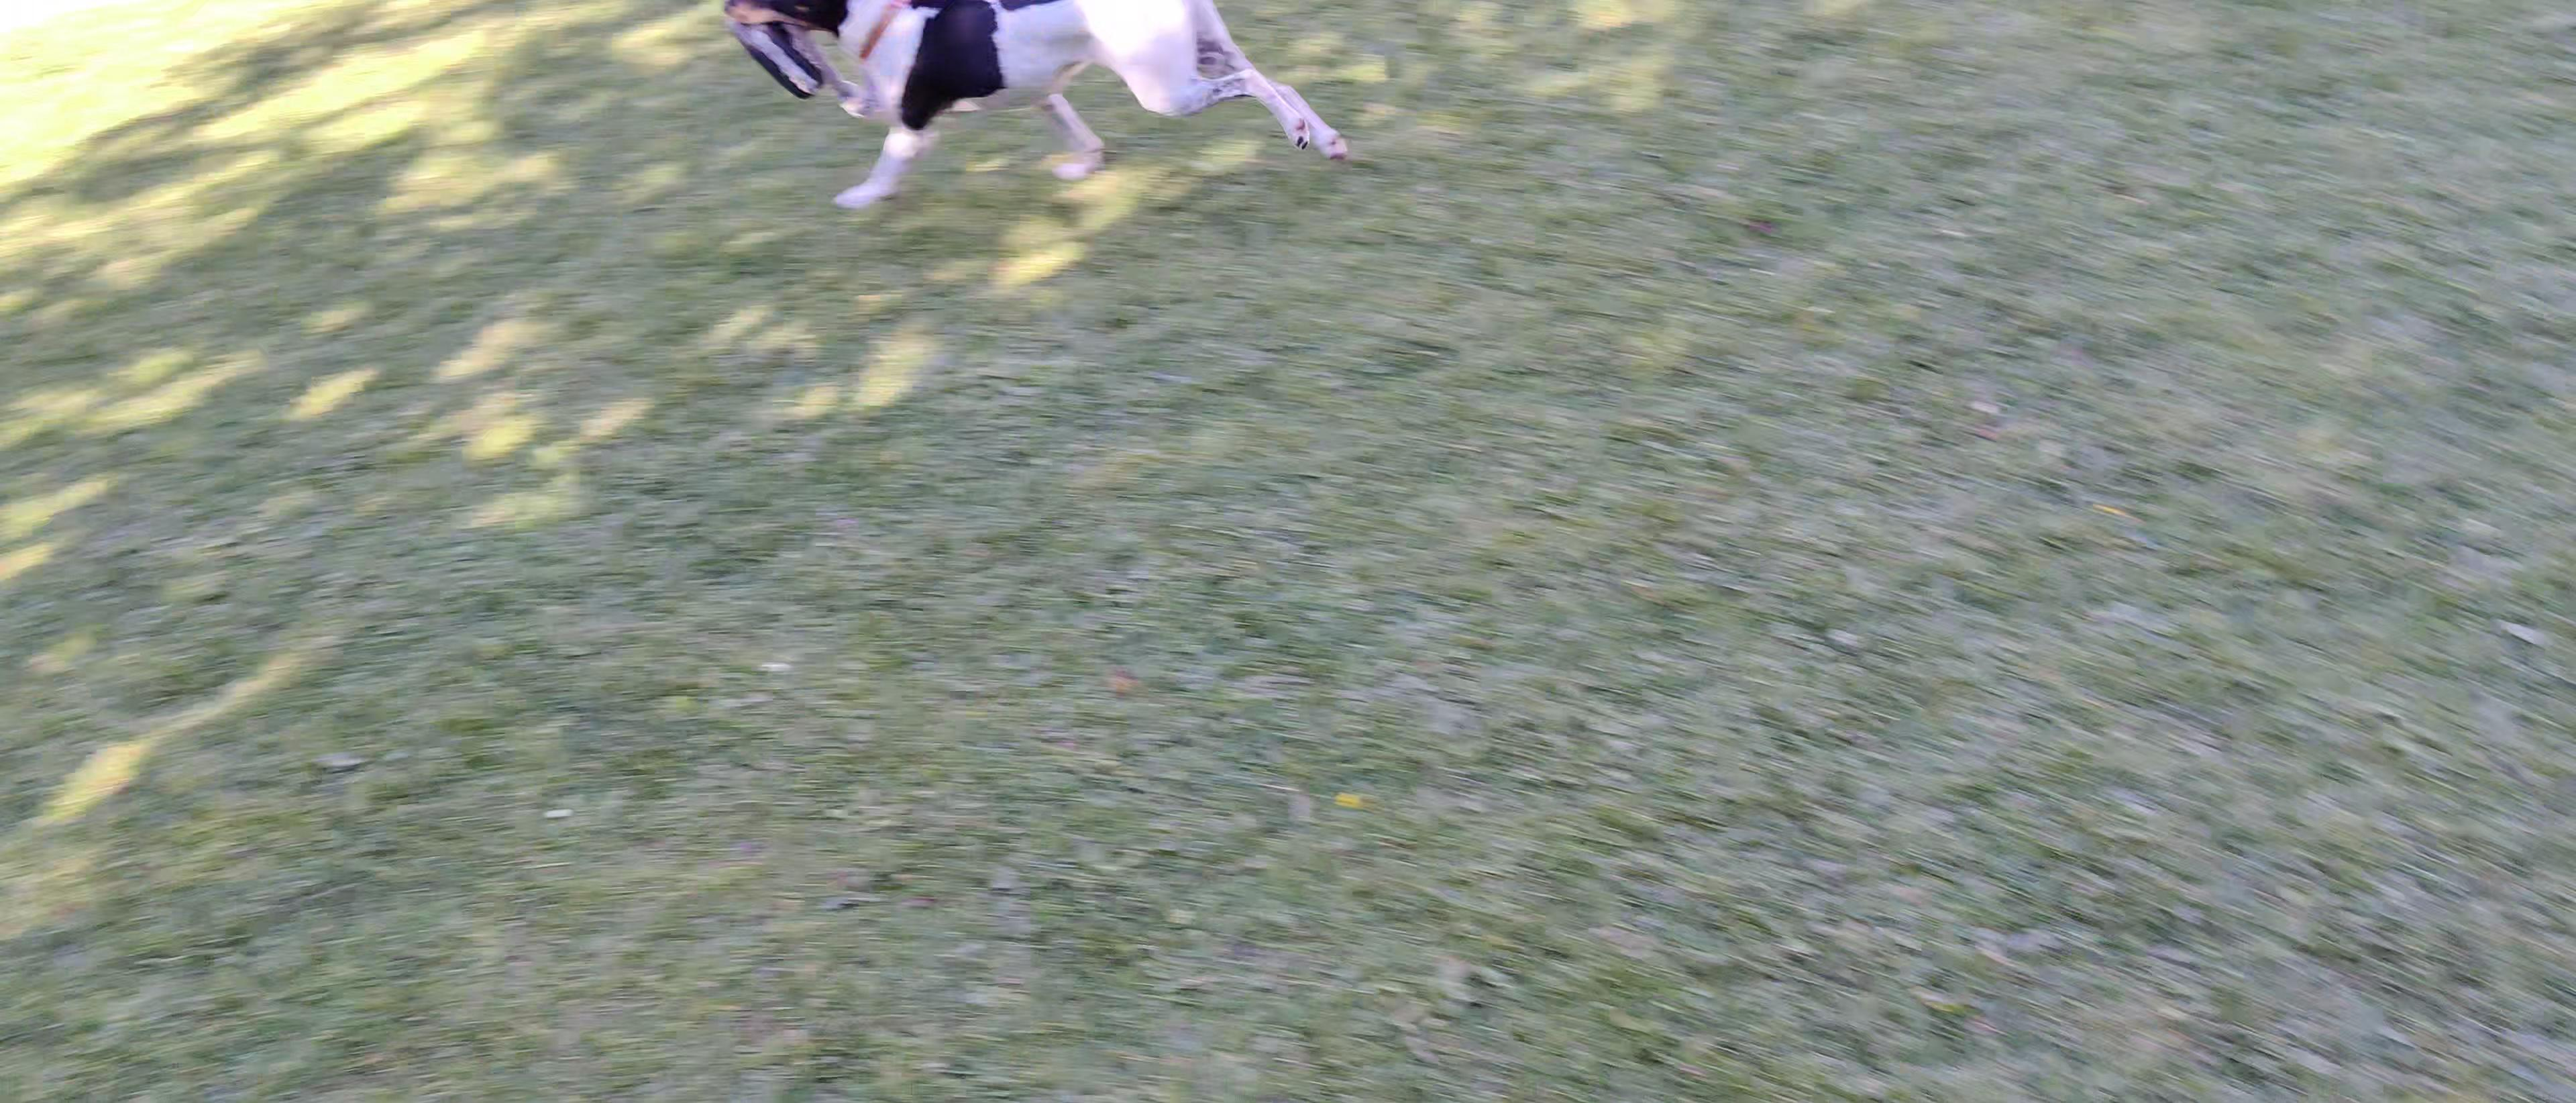Dog: (711, 0, 1360, 247)
